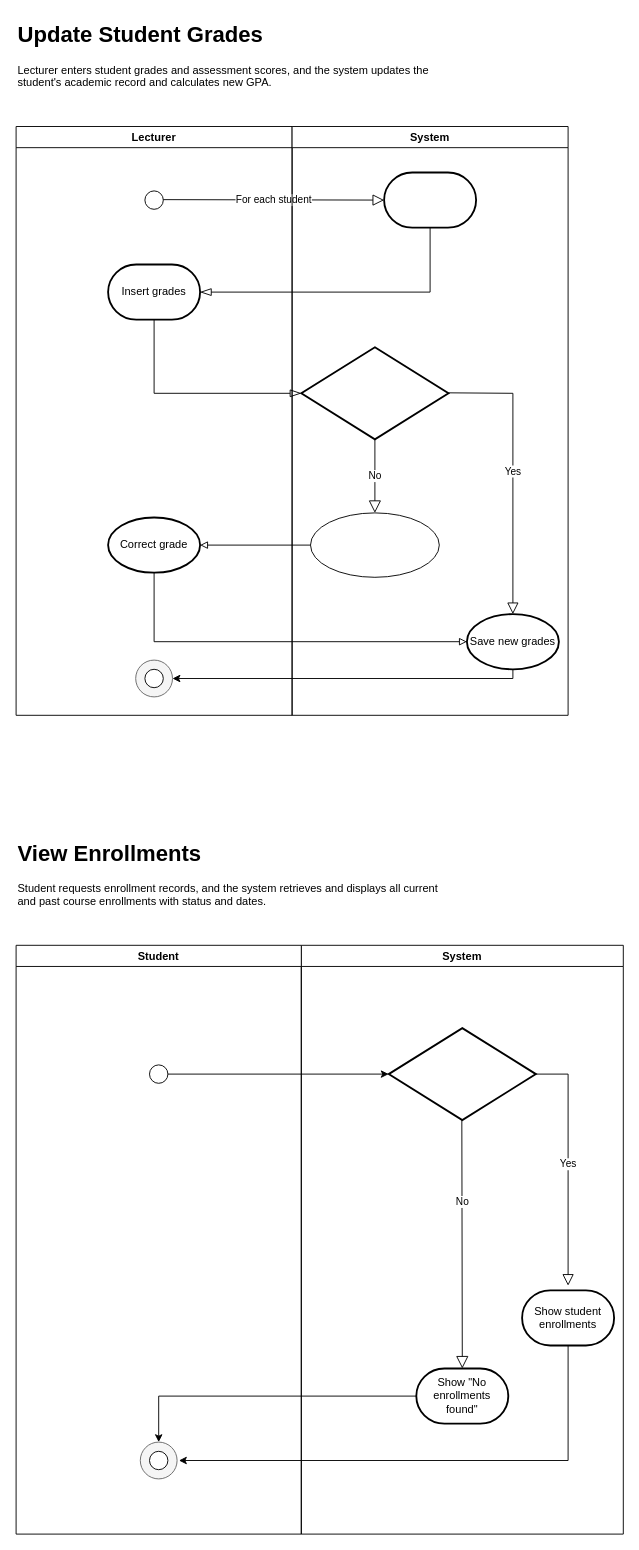
Image size: 639x1550. Some labels were removed from this diagram. Here are the shapes that lost their labels. From the top down, the centre of each, then its label:
point (430, 199): View current grades
point (374, 393): Is the input valid?
point (374, 544): Ask for correction
point (461, 1074): Search for student enrollments
